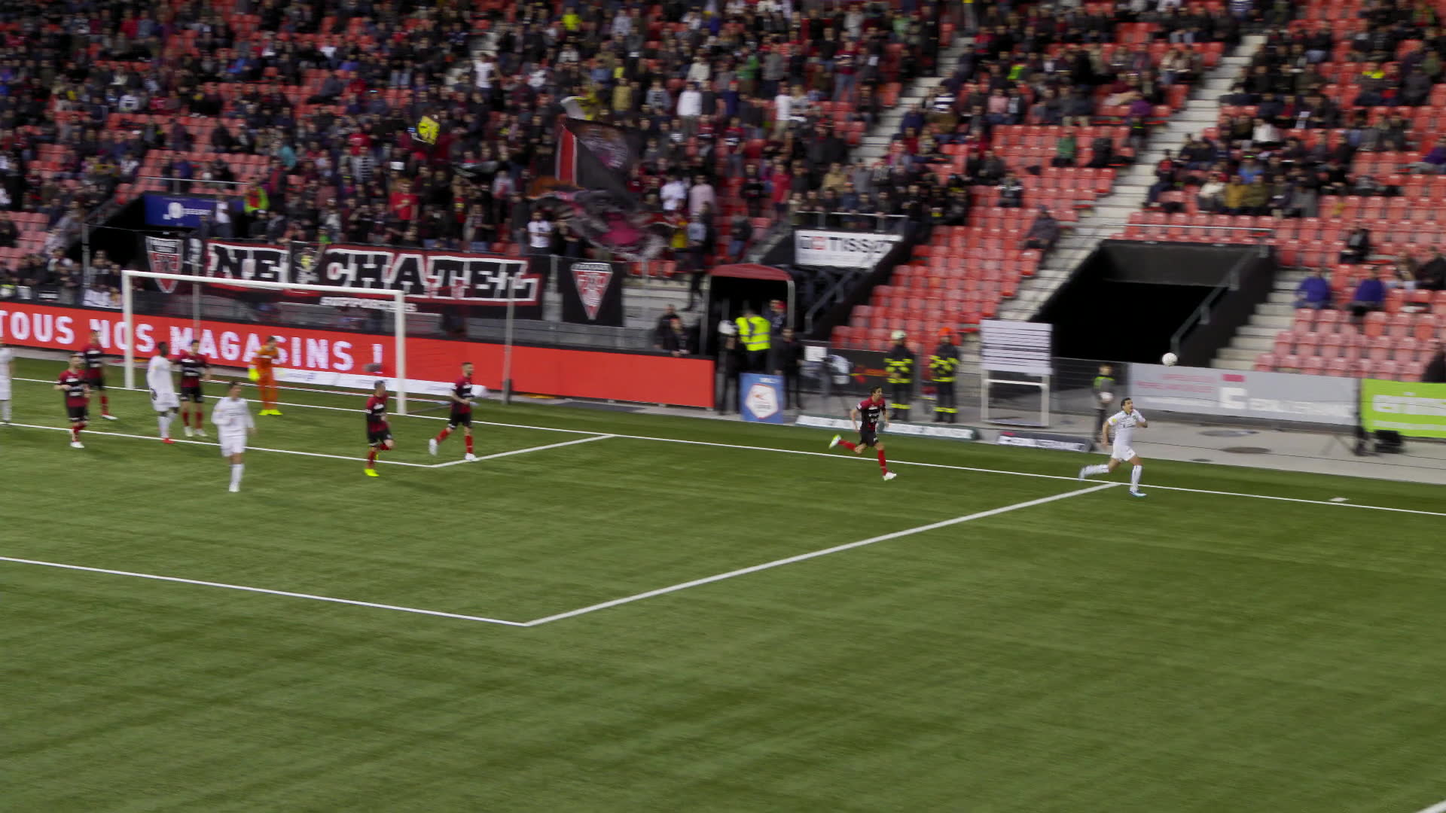ball: (1157, 352, 1172, 367)
player: (829, 387, 891, 477), (1093, 399, 1149, 494), (224, 380, 266, 490), (151, 343, 191, 444), (441, 364, 480, 461), (183, 341, 222, 436), (90, 330, 127, 421), (63, 352, 98, 448), (367, 382, 401, 479), (260, 337, 298, 417), (0, 334, 13, 426)
